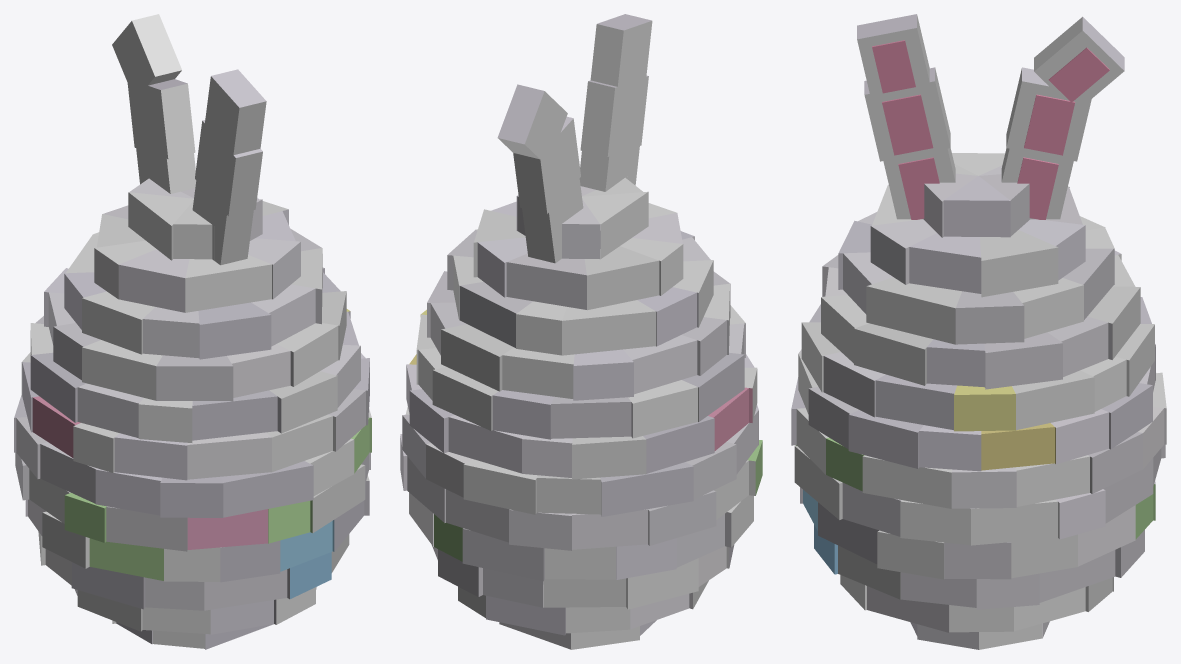
Rendered from bunny_egg.glb.
The picture shows the model from 3 angles, left to right: view 1: azimuth 30°, elevation 25°; view 2: azimuth 150°, elevation 25°; view 3: azimuth 270°, elevation 25°; orthographic projection. The views are drawn at different scales.
Visible parts, largest first — view 1: bunny_egg; view 2: bunny_egg; view 3: bunny_egg.
Part boxes in pixels (x1,y1,x2,y2): bunny_egg: (14, 14, 371, 649); bunny_egg: (400, 14, 762, 649); bunny_egg: (791, 14, 1166, 649).
Size of the model in its own units: 0.8562 by 1.49 by 0.8569.
